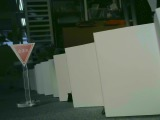stop: (6, 42, 38, 66)
